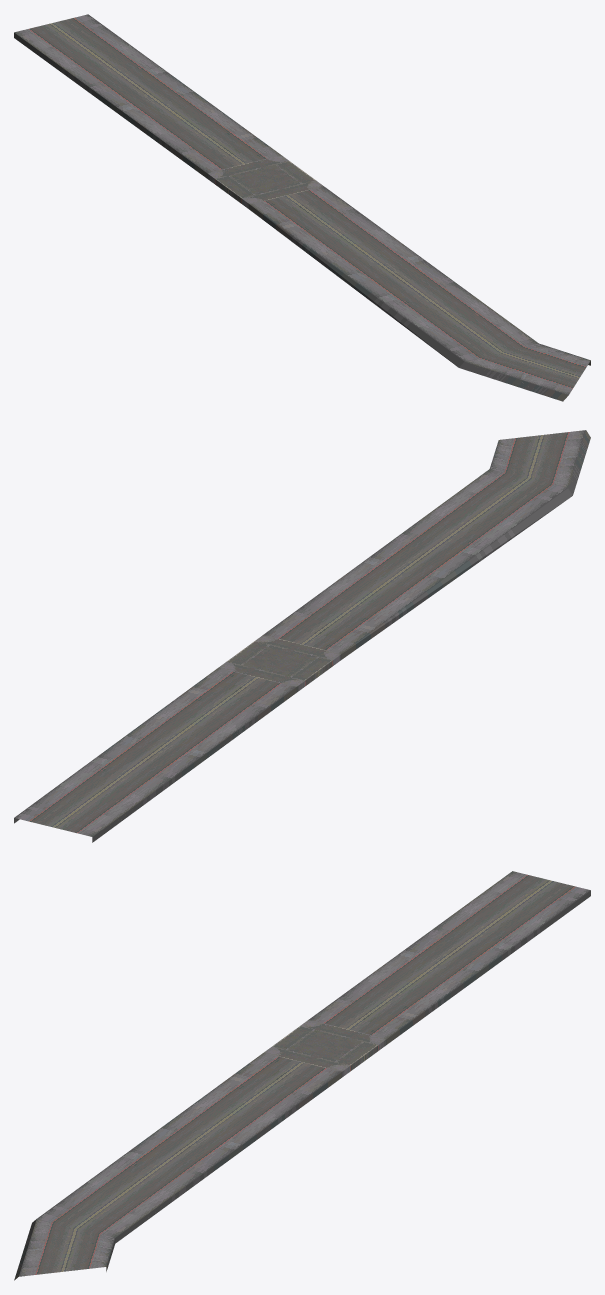
The model's file is lodroadssfs18.obj.
3 renders of one model, top to bottom at view 1: azimuth 30°, elevation 25°; view 2: azimuth 150°, elevation 25°; view 3: azimuth 330°, elevation 25°, orthographic. The views are drawn at different scales.
Parts seen in each view (by area): view 1: LODROADSsfs18; view 2: LODROADSsfs18; view 3: LODROADSsfs18.
Part boxes in pixels (x1,y1,x2,y2): LODROADSsfs18: (14,14,590,401); LODROADSsfs18: (14,430,590,842); LODROADSsfs18: (14,871,590,1280).
Bounding box in the file's own units: 27.25 × 1.58 × 238.
2 materials, 2 textured.
